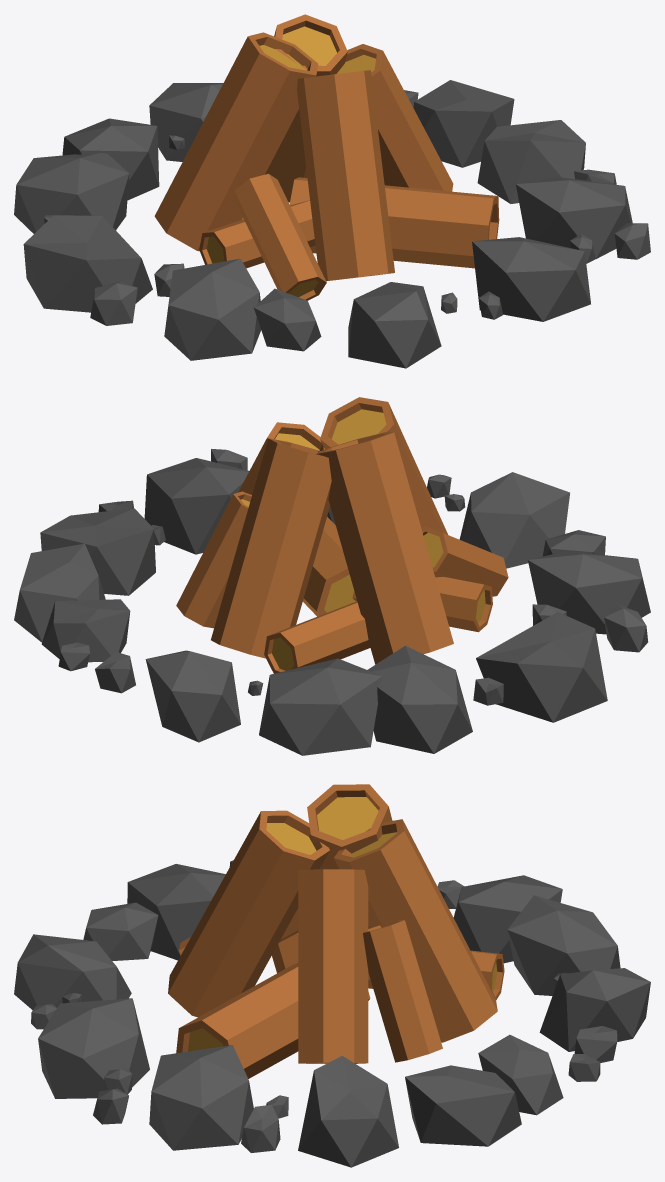
Rendered from campfire.glb.
3 renders of one model, top to bottom at view 1: azimuth 30°, elevation 25°; view 2: azimuth 150°, elevation 25°; view 3: azimuth 270°, elevation 25°, orthographic. The views are drawn at different scales.
Parts seen in each view (by area): view 1: Icosphere.015, Cylinder; view 2: Icosphere.015, Cylinder; view 3: Icosphere.015, Cylinder.
Part boxes in pixels (x1,y1,x2,y2): Icosphere.015: (14, 80, 650, 368); Cylinder: (154, 14, 499, 300); Icosphere.015: (14, 449, 650, 755); Cylinder: (176, 397, 508, 673); Icosphere.015: (14, 860, 650, 1167); Cylinder: (168, 784, 504, 1078).
Bounding box in the file's own units: 5.53 × 2.05 × 5.34.
